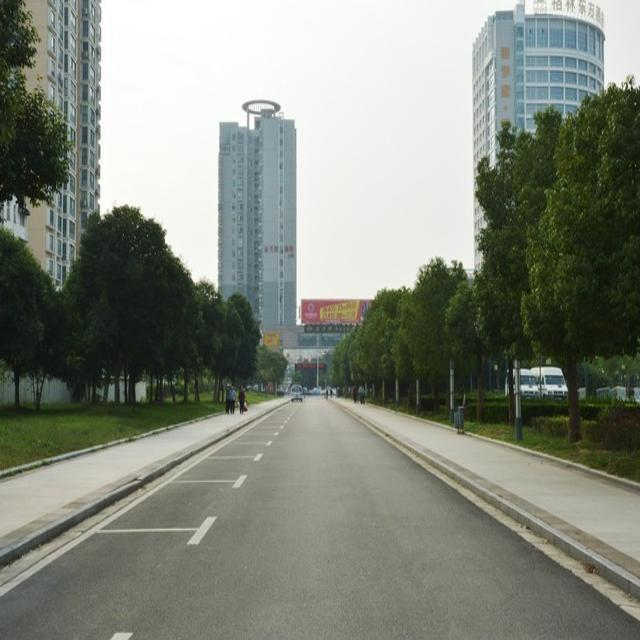curb: (366, 420, 639, 601), (0, 406, 279, 569), (0, 413, 218, 479), (468, 433, 639, 493)
